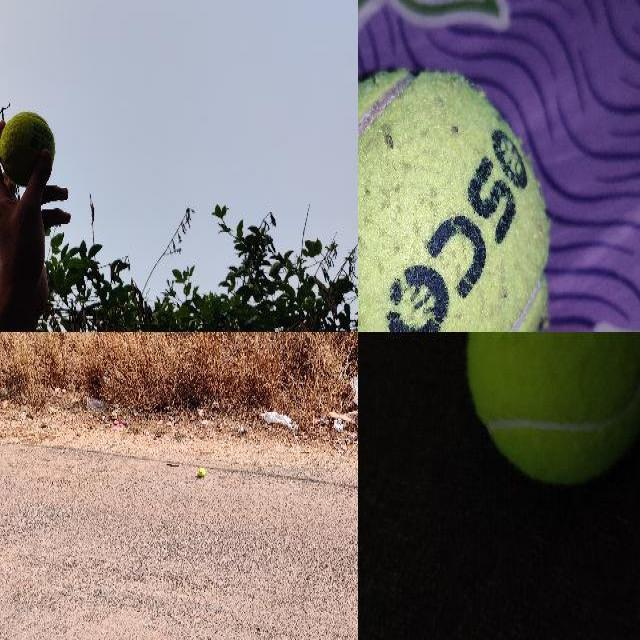tennis-ball: (358, 69, 551, 331), (465, 332, 639, 484), (0, 109, 56, 187), (199, 467, 206, 477)
